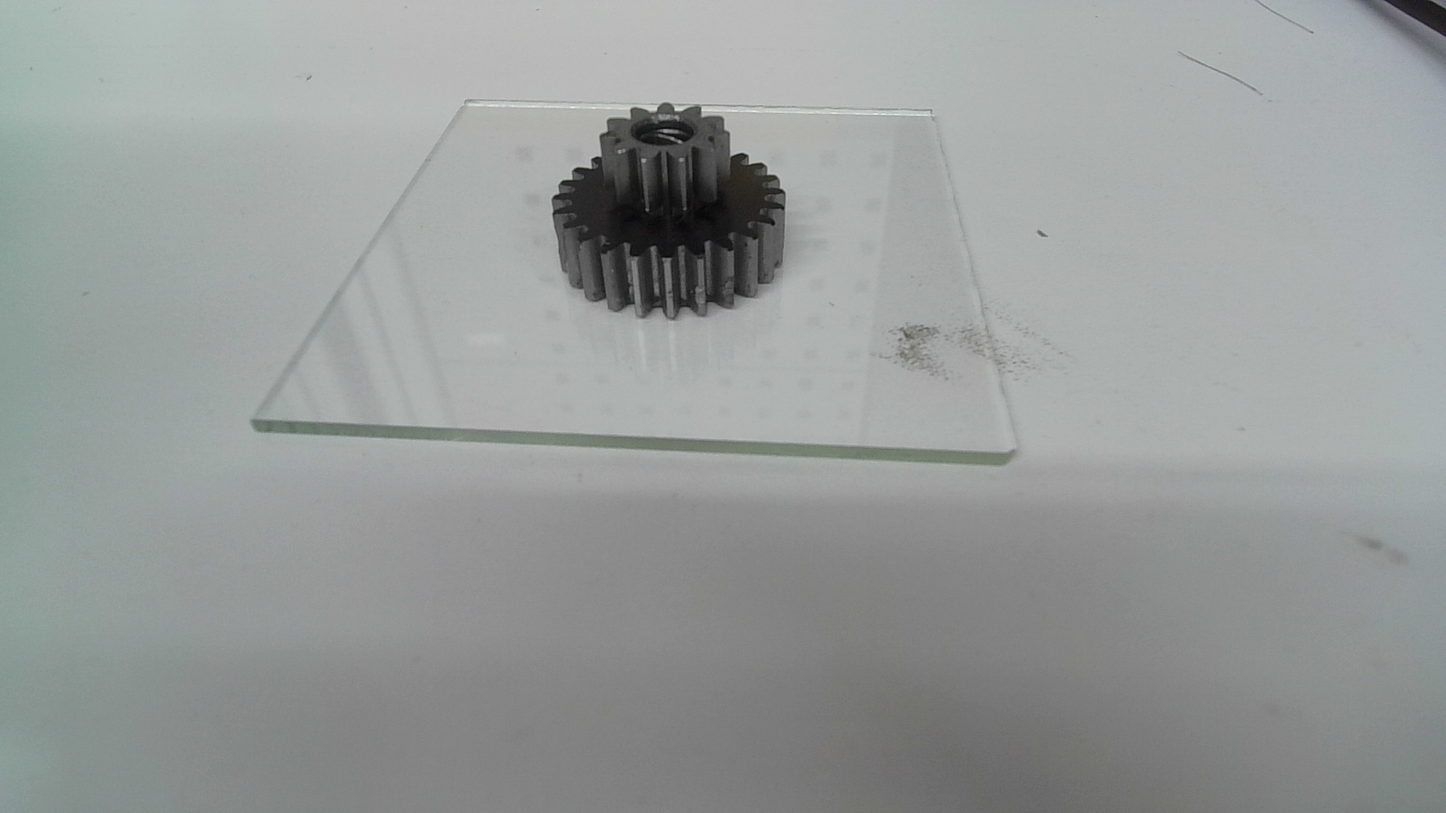gear: (548, 99, 790, 324), (550, 97, 790, 323)
